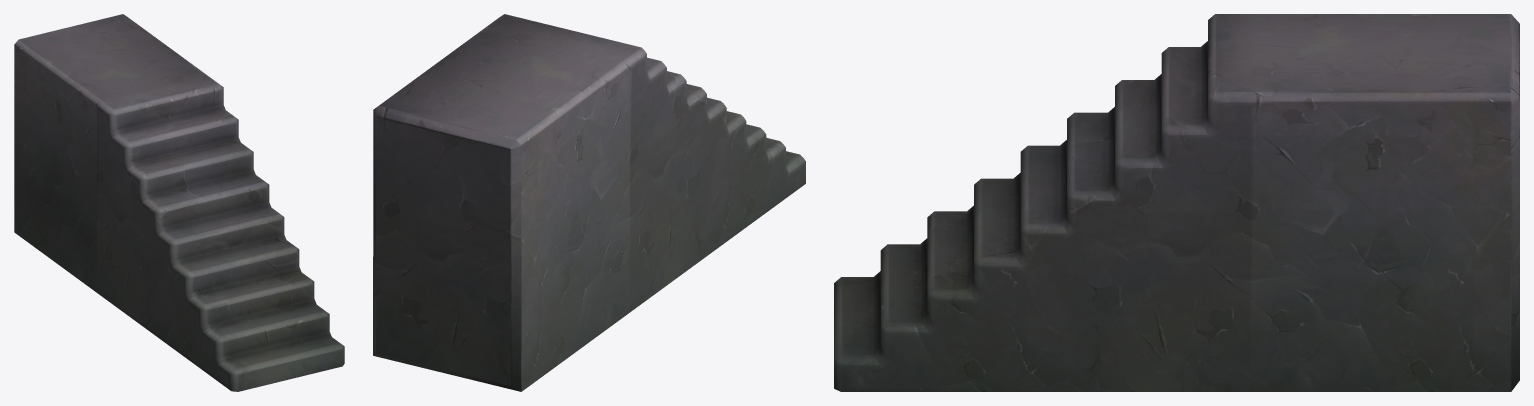
The model's file is DE_House_Mod_Part_15.fbx.
3 views of the same model, side by side, from view 1: azimuth 30°, elevation 25°; view 2: azimuth 150°, elevation 25°; view 3: azimuth 270°, elevation 25° (orthographic). The views are drawn at different scales.
Visible parts, largest first — view 1: DE_House_Mod_Part_15; view 2: DE_House_Mod_Part_15; view 3: DE_House_Mod_Part_15.
Part boxes in pixels (box(x1,y1,x2,y2)): DE_House_Mod_Part_15: box(14, 14, 344, 391); DE_House_Mod_Part_15: box(373, 14, 805, 391); DE_House_Mod_Part_15: box(834, 14, 1519, 391).
Bounding box in the file's own units: 2 × 3.23 × 6.78.
